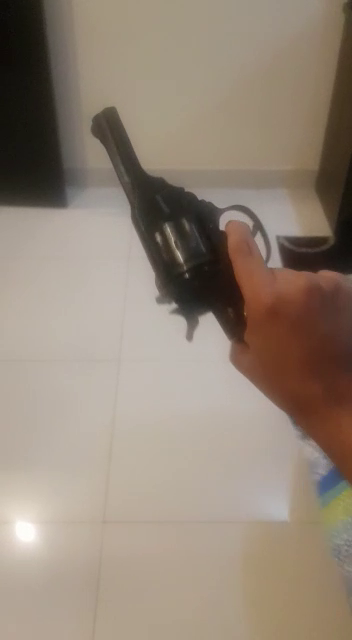handgun: (61, 54, 345, 495)
